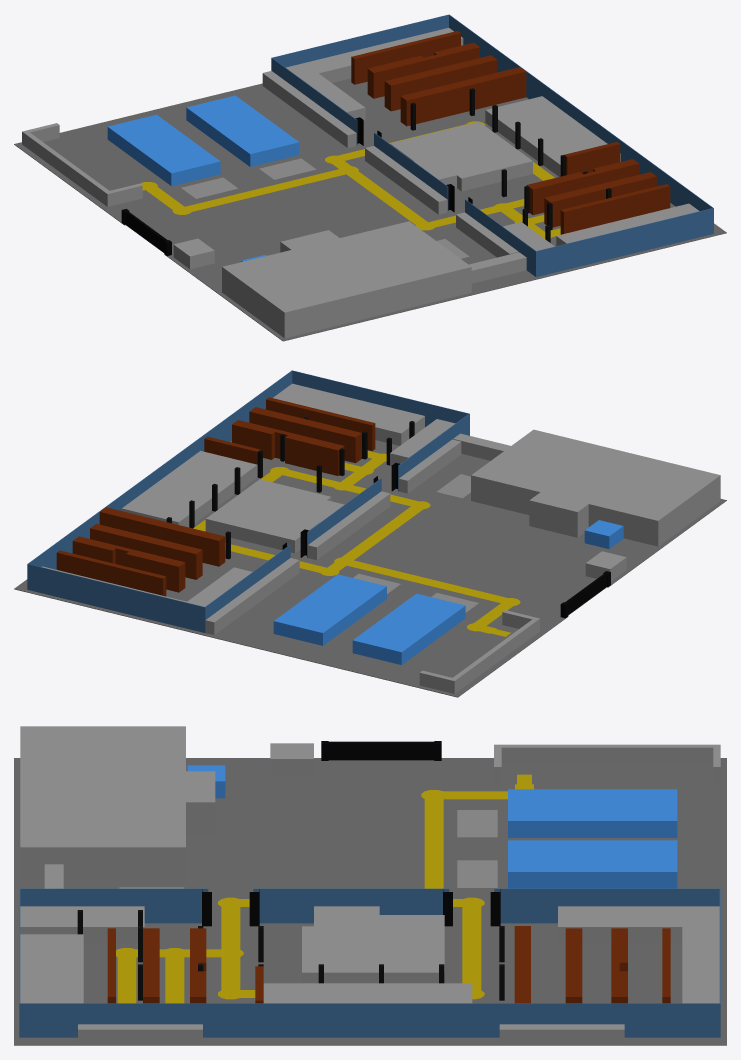
The model's file is samhyun.dae.
The picture shows the model from 3 angles, top to bottom: view 1: azimuth 30°, elevation 25°; view 2: azimuth 150°, elevation 25°; view 3: azimuth 270°, elevation 25°; orthographic projection. The views are drawn at different scales.
Parts seen in each view (by area): view 1: HAMR3_Sim_Map - 바닥-1, HAMR3_Sim_Map - 2동 사무동-1, HAMR3_Sim_Map - 공장 외벽-1, HAMR3_Sim_Map - QC 회의실_청정도 검사실_정밀측정, HAMR3_Sim_Map - 파티션-1, HAMR3_Sim_Map - HAMR3_경로-1, HAMR3_Sim_Map - 자재사무실_항온항습 자재보관실_, HAMR3_Sim_Map - 화물용승강기_좌측-1, HAMR3_Sim_Map - 5동 창고-1, HAMR3_Sim_Map - 진동시험실_X-RAY검사실_방산-1, HAMR3_Sim_Map - 사무동-공장-1, HAMR3_Sim_Map - 경비실-1 (+6 smaller); view 2: HAMR3_Sim_Map - 바닥-1, HAMR3_Sim_Map - 2동 사무동-1, HAMR3_Sim_Map - 공장 외벽-1, HAMR3_Sim_Map - QC 회의실_청정도 검사실_정밀측정, HAMR3_Sim_Map - HAMR3_경로-1, HAMR3_Sim_Map - 자재사무실_항온항습 자재보관실_, HAMR3_Sim_Map - 파티션-1, HAMR3_Sim_Map - 진동시험실_X-RAY검사실_방산-1, HAMR3_Sim_Map - 5동 창고-1, HAMR3_Sim_Map - 화물용승강기_좌측-1, HAMR3_Sim_Map - 화물용승강기_우측-1, HAMR3_Sim_Map - 사무동-공장-1 (+5 smaller); view 3: HAMR3_Sim_Map - 바닥-1, HAMR3_Sim_Map - 공장 외벽-1, HAMR3_Sim_Map - 2동 사무동-1, HAMR3_Sim_Map - QC 회의실_청정도 검사실_정밀측정, HAMR3_Sim_Map - HAMR3_경로-1, HAMR3_Sim_Map - 화물용승강기_좌측-1, HAMR3_Sim_Map - 5동 창고-1, HAMR3_Sim_Map - 진동시험실_X-RAY검사실_방산-1, HAMR3_Sim_Map - 자재사무실_항온항습 자재보관실_, HAMR3_Sim_Map - 화물용승강기_우측-1, HAMR3_Sim_Map - 공장 뒤편-1, HAMR3_Sim_Map - 공장 뒤편-2 (+24 smaller).
Part boxes in pixels (x1,y1,x2,y2): HAMR3_Sim_Map - 바닥-1: (14, 78, 726, 341); HAMR3_Sim_Map - 2동 사무동-1: (222, 221, 471, 338); HAMR3_Sim_Map - 공장 외벽-1: (271, 14, 713, 277); HAMR3_Sim_Map - QC 회의실_청정도 검사실_정밀측정: (390, 121, 532, 191); HAMR3_Sim_Map - 파티션-1: (262, 71, 518, 257); HAMR3_Sim_Map - HAMR3_경로-1: (140, 121, 560, 238); HAMR3_Sim_Map - 자재사무실_항온항습 자재보관실_: (485, 96, 620, 176); HAMR3_Sim_Map - 화물용승강기_좌측-1: (286, 28, 463, 120); HAMR3_Sim_Map - 5동 창고-1: (22, 123, 142, 206); HAMR3_Sim_Map - 진동시험실_X-RAY검사실_방산-1: (556, 203, 699, 245); HAMR3_Sim_Map - 사무동-공장-1: (469, 252, 526, 283); HAMR3_Sim_Map - 경비실-1: (173, 238, 214, 269); HAMR3_Sim_Map - 바닥-1: (14, 440, 726, 697); HAMR3_Sim_Map - 2동 사무동-1: (471, 429, 720, 546); HAMR3_Sim_Map - 공장 외벽-1: (27, 370, 469, 632); HAMR3_Sim_Map - QC 회의실_청정도 검사실_정밀측정: (205, 479, 344, 553); HAMR3_Sim_Map - HAMR3_경로-1: (193, 451, 520, 636); HAMR3_Sim_Map - 자재사무실_항온항습 자재보관실_: (121, 451, 257, 527); HAMR3_Sim_Map - 파티션-1: (205, 439, 461, 635); HAMR3_Sim_Map - 진동시험실_X-RAY검사실_방산-1: (273, 383, 424, 445); HAMR3_Sim_Map - 5동 창고-1: (419, 610, 539, 693); HAMR3_Sim_Map - 화물용승강기_좌측-1: (42, 566, 252, 606); HAMR3_Sim_Map - 화물용승강기_우측-1: (390, 419, 455, 466); HAMR3_Sim_Map - 사무동-공장-1: (453, 433, 510, 460); HAMR3_Sim_Map - 바닥-1: (14, 758, 726, 1045); HAMR3_Sim_Map - 공장 외벽-1: (19, 888, 720, 1037); HAMR3_Sim_Map - 2동 사무동-1: (20, 726, 215, 881); HAMR3_Sim_Map - QC 회의실_청정도 검사실_정밀측정: (302, 906, 444, 983); HAMR3_Sim_Map - HAMR3_경로-1: (116, 774, 533, 1003); HAMR3_Sim_Map - 화물용승강기_좌측-1: (558, 906, 719, 1003); HAMR3_Sim_Map - 5동 창고-1: (494, 744, 720, 784); HAMR3_Sim_Map - 진동시험실_X-RAY검사실_방산-1: (20, 934, 83, 1003); HAMR3_Sim_Map - 자재사무실_항온항습 자재보관실_: (263, 983, 472, 1003); HAMR3_Sim_Map - 화물용승강기_우측-1: (20, 906, 144, 943); HAMR3_Sim_Map - 공장 뒤편-1: (499, 1024, 624, 1043); HAMR3_Sim_Map - 공장 뒤편-2: (78, 1024, 202, 1043).
Bounding box in the file's own units: 90181 × 94678 × 5100.
